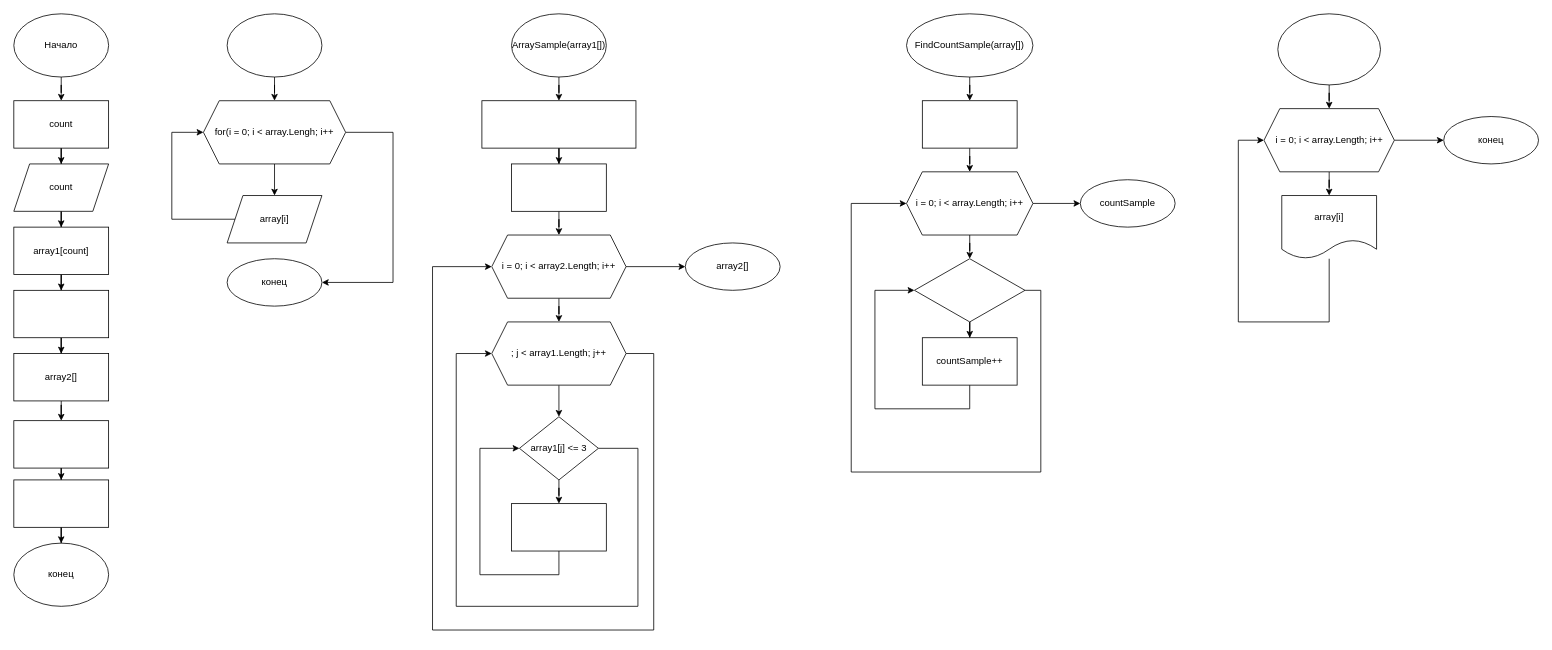
Image size: 1552x650. Some labels were removed from this diagram. The shapes that lost their labels are listed below. From the top down, each one's centre as x and y in pixels, then its label:
pixel 274 45: FillArray(array[])
pixel 1329 49: PrintArray(array[])
pixel 558 124: array2[FindCountSample(array 1)]
pixel 969 124: countSample = 0
pixel 558 187: j = 0
pixel 969 290: array[i].Length <= 3
pixel 61 314: FillArray(array1)
pixel 61 444: ArraySample(array2)
pixel 61 503: PrintArray(array2)
pixel 558 527: array2[i] = array1[j] j++; break
